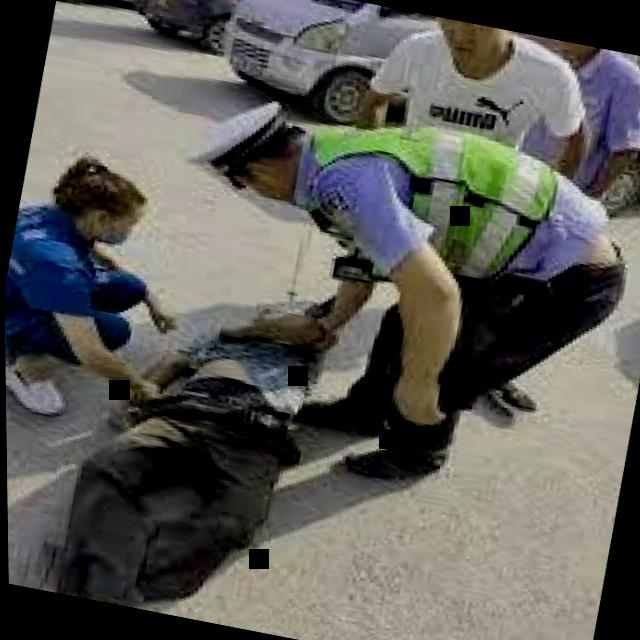Fall-Detected: (2, 214, 361, 638)
